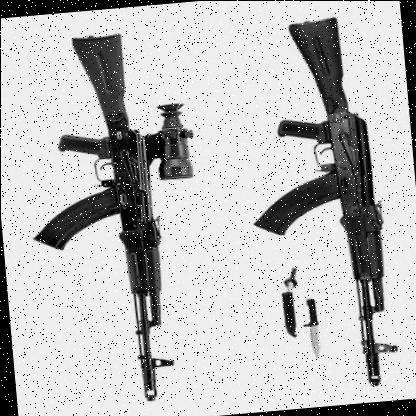rifle: (0, 26, 225, 416), (230, 12, 416, 385)
